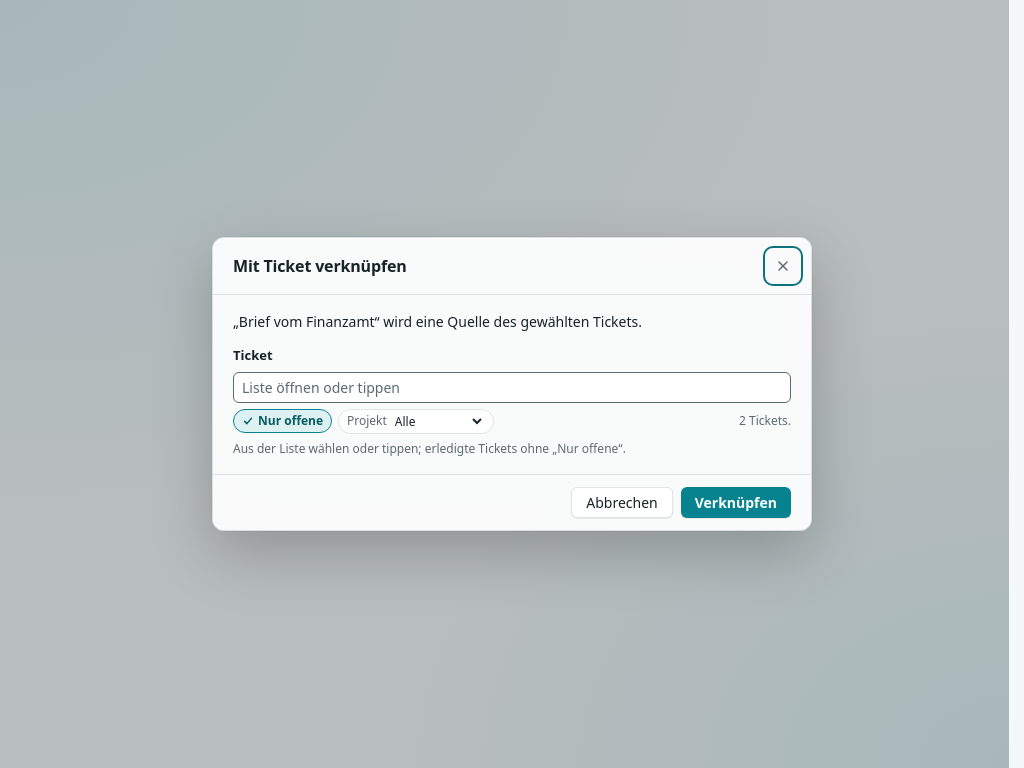
Test: LinkTicketDialog › offers done tickets with "Nur offene" switched off
Focus the dropdown labelled "Ticket" at (512,387), box [233, 372, 791, 403]
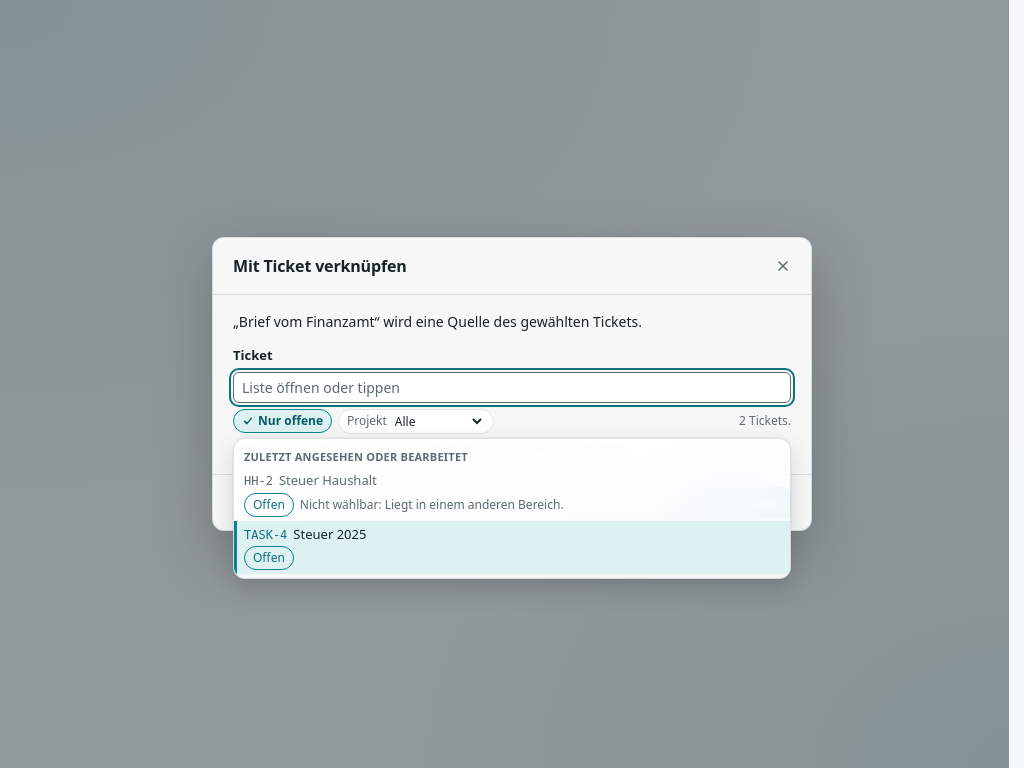
Click the button "Nur offene" at (282,421), box [233, 409, 332, 433]
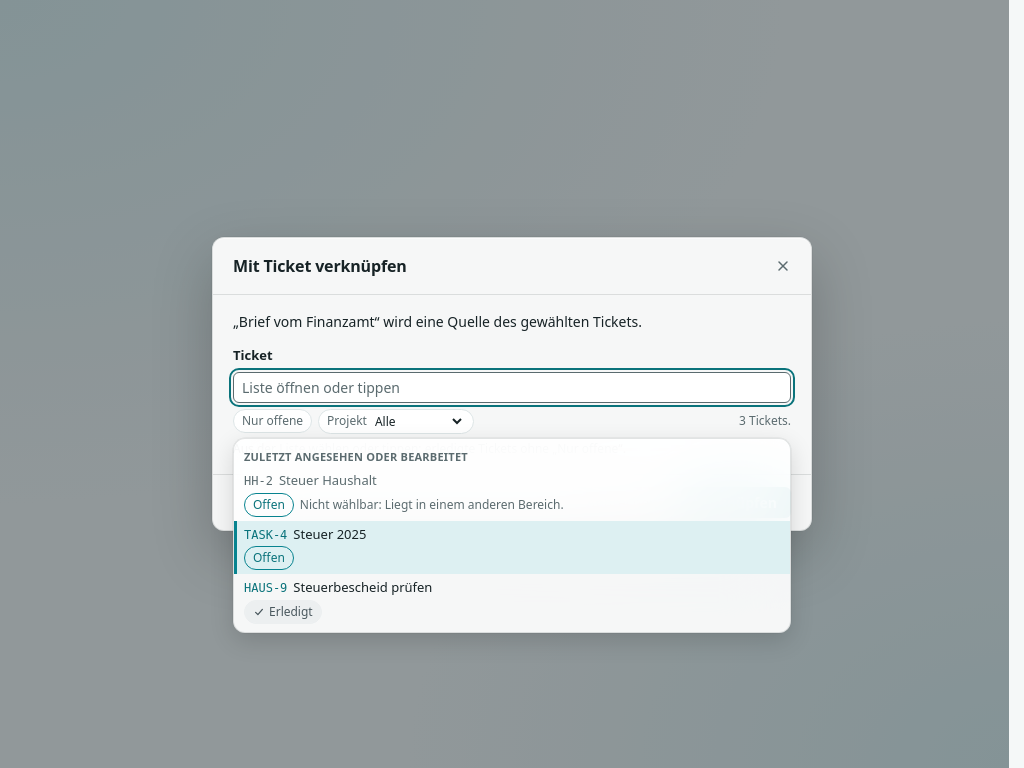
Result: the option "HAUS-9 Steuerbescheid prüfen Erledigt" is shown
Click the option "HAUS-9 Steuerbescheid prüfen Erledigt" at (266,588), box [244, 578, 432, 624]
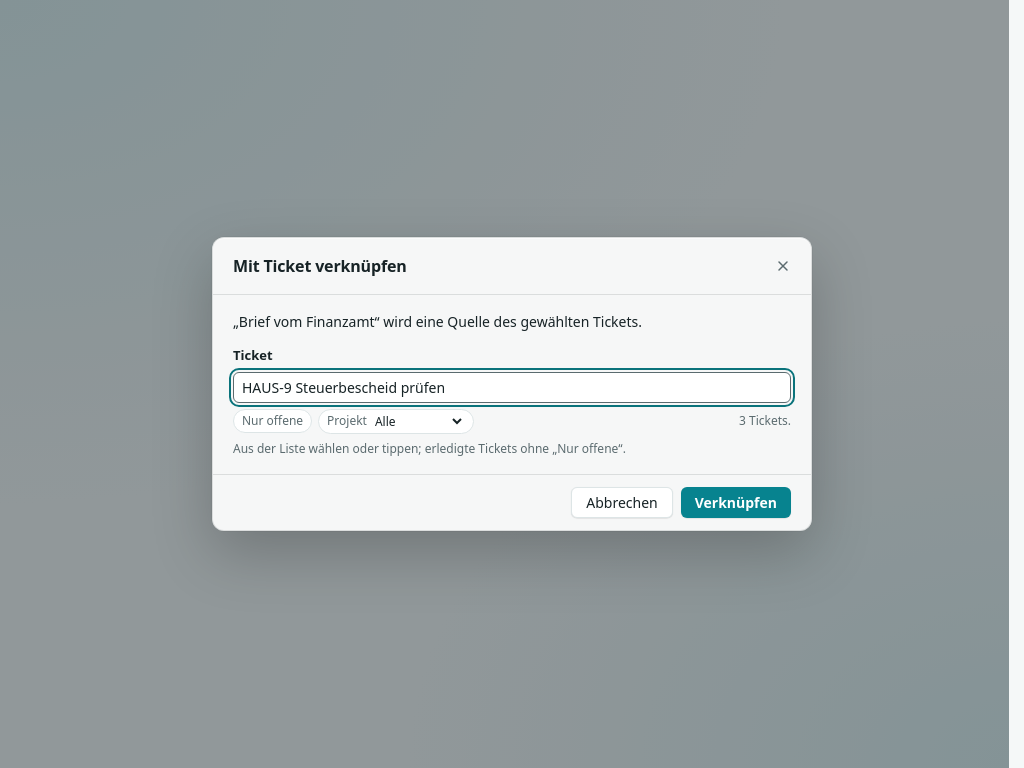
Result: the dropdown labelled "Ticket" holds "HAUS-9 Steuerbescheid prüfen" at [233, 372, 791, 403]
